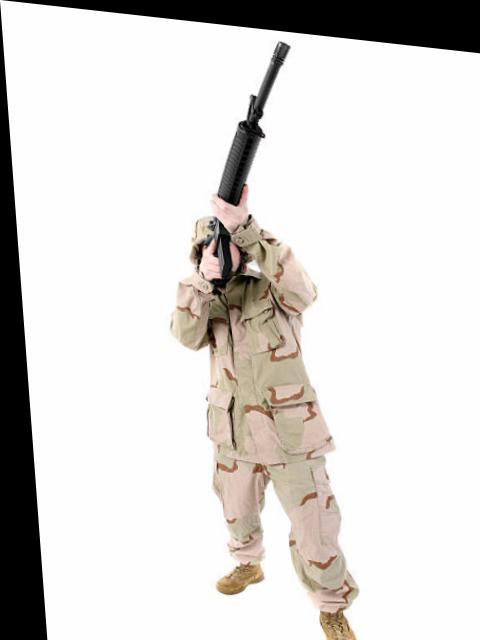other: (169, 194, 348, 640)
